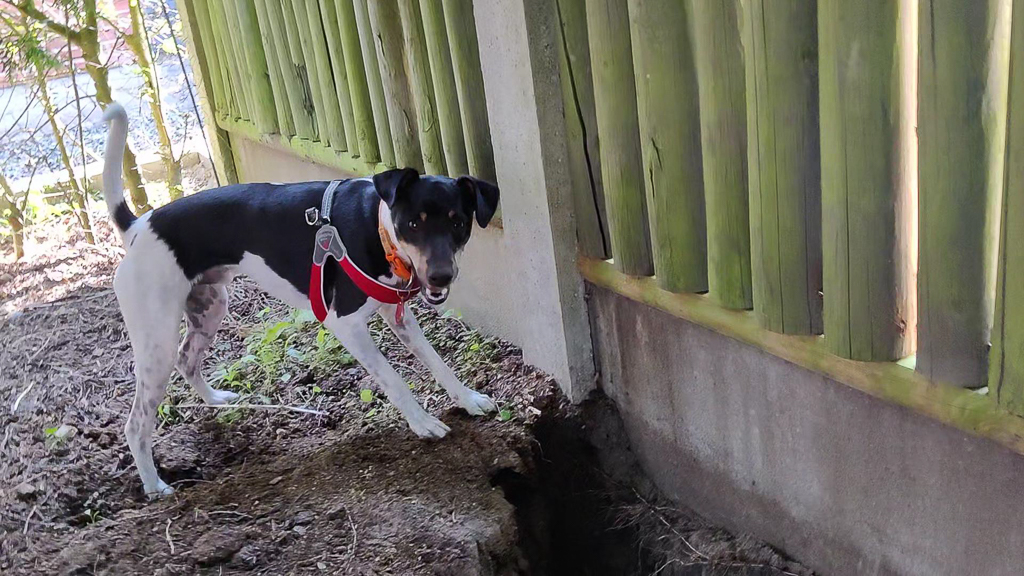Dog: (75, 91, 532, 511)
